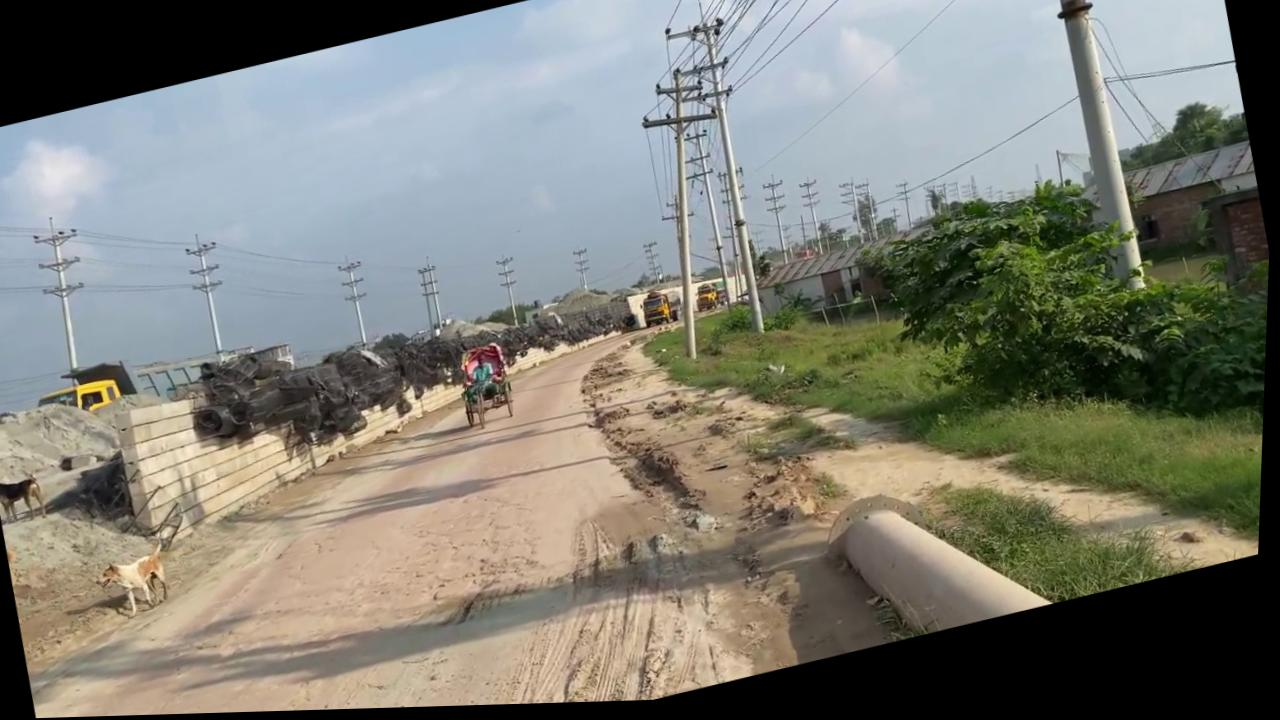Animal: (84, 498, 204, 625), (0, 466, 53, 528)
Curb: (816, 461, 1061, 658)
Dog: (94, 537, 181, 625)
Fence: (111, 289, 657, 546)
Garbage: (162, 262, 648, 478)
Muddy road: (0, 191, 1274, 720)
Pole: (1018, 0, 1159, 306)
Railroad-crossing: (450, 332, 535, 434)
Rickshaw: (588, 198, 1273, 702)
Tree: (32, 319, 299, 434), (36, 375, 127, 425), (639, 291, 676, 333), (693, 283, 724, 318), (531, 310, 567, 339)
